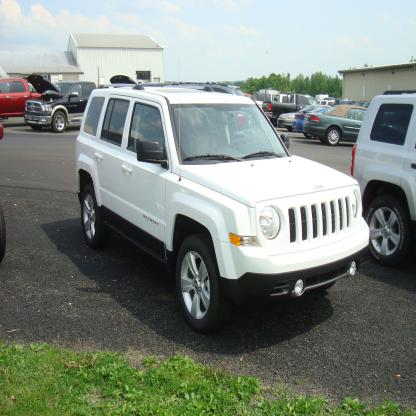Vehicle: (74, 79, 369, 331)
